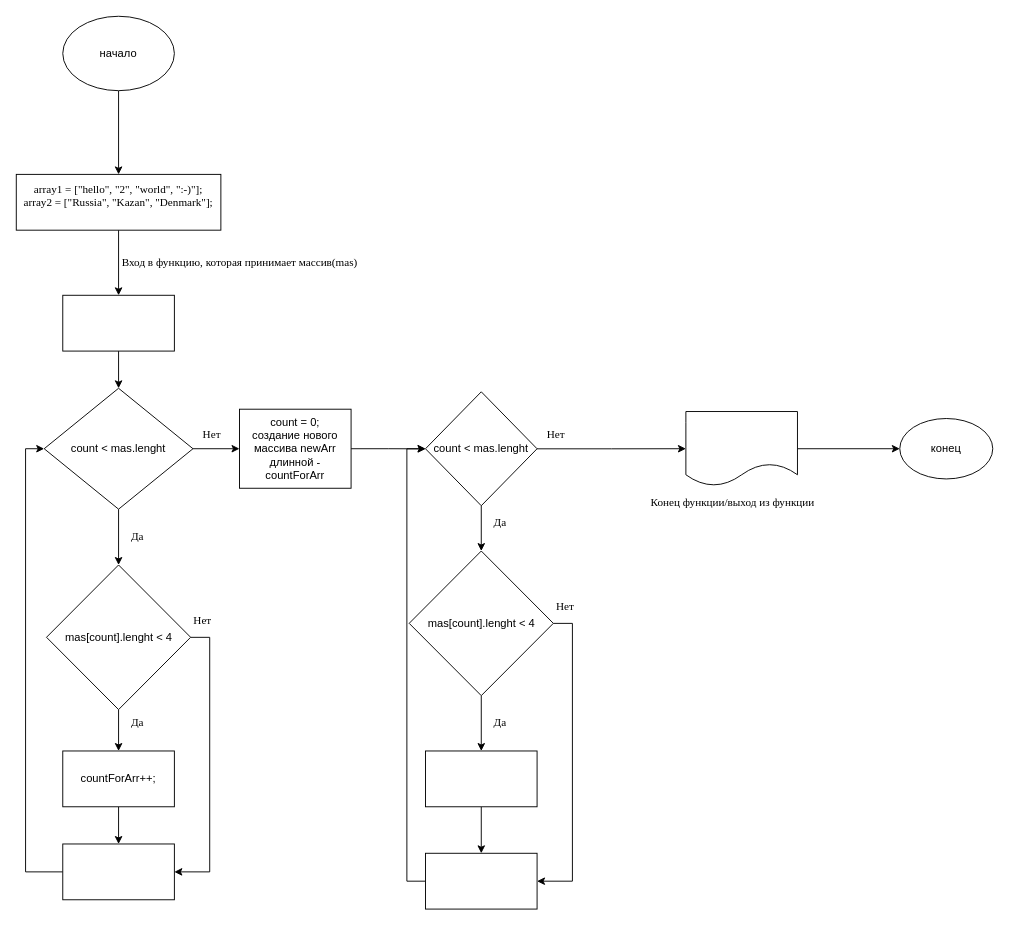
Image size: 1009x925. Some labels were removed from this diagram. Each missing label, with the centre of its shape:
count++: the point at 118,871
count++;: the point at 481,880
int count = 0, countForArr = 0, countI = 0;: the point at 118,322
newArr[countI] = mas[count]; countI++;: the point at 481,778
Вывод итогового массива newArr: the point at 741,448
